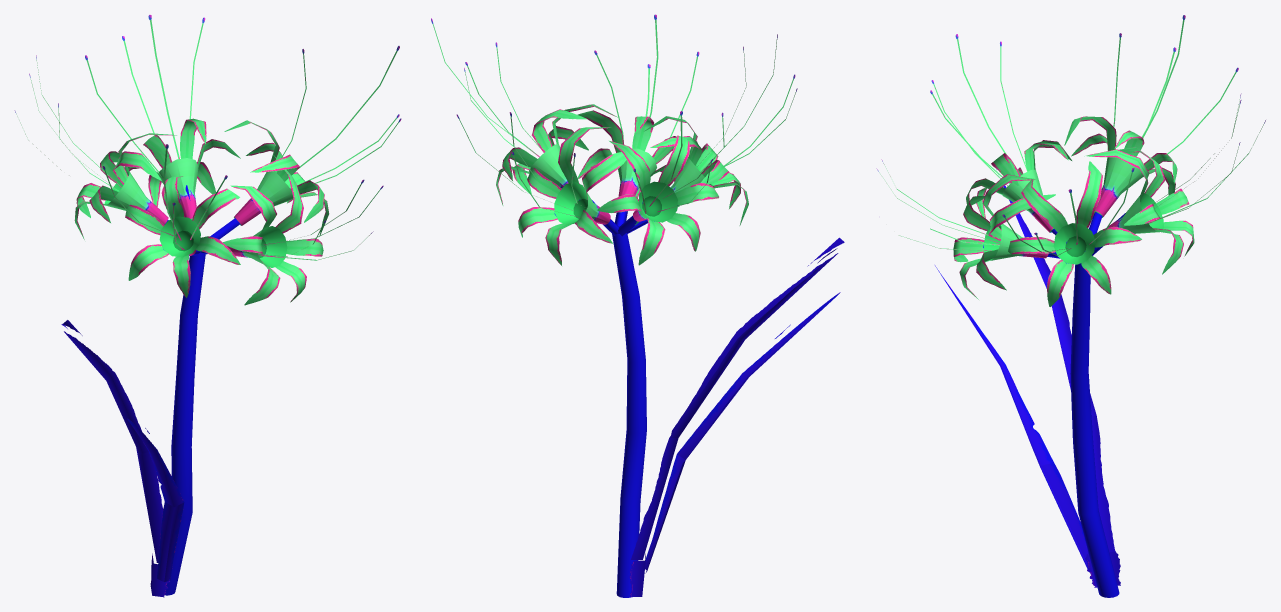
The model's file is hoa2.glb.
The picture shows the model from 3 angles, left to right: view 1: azimuth 30°, elevation 25°; view 2: azimuth 150°, elevation 25°; view 3: azimuth 270°, elevation 25°; orthographic projection.
Parts seen in each view (by area): view 1: Uchujin_Main2_Flowers1_0; view 2: Uchujin_Main2_Flowers1_0; view 3: Uchujin_Main2_Flowers1_0.
Part boxes in pixels (box(x1,y1,x2,y2)): Uchujin_Main2_Flowers1_0: box(14, 15, 401, 597); Uchujin_Main2_Flowers1_0: box(431, 14, 844, 597); Uchujin_Main2_Flowers1_0: box(876, 15, 1265, 597).
Size of the model in its own units: 0.3233 by 0.4352 by 0.2882.
1 material, 1 textured.
